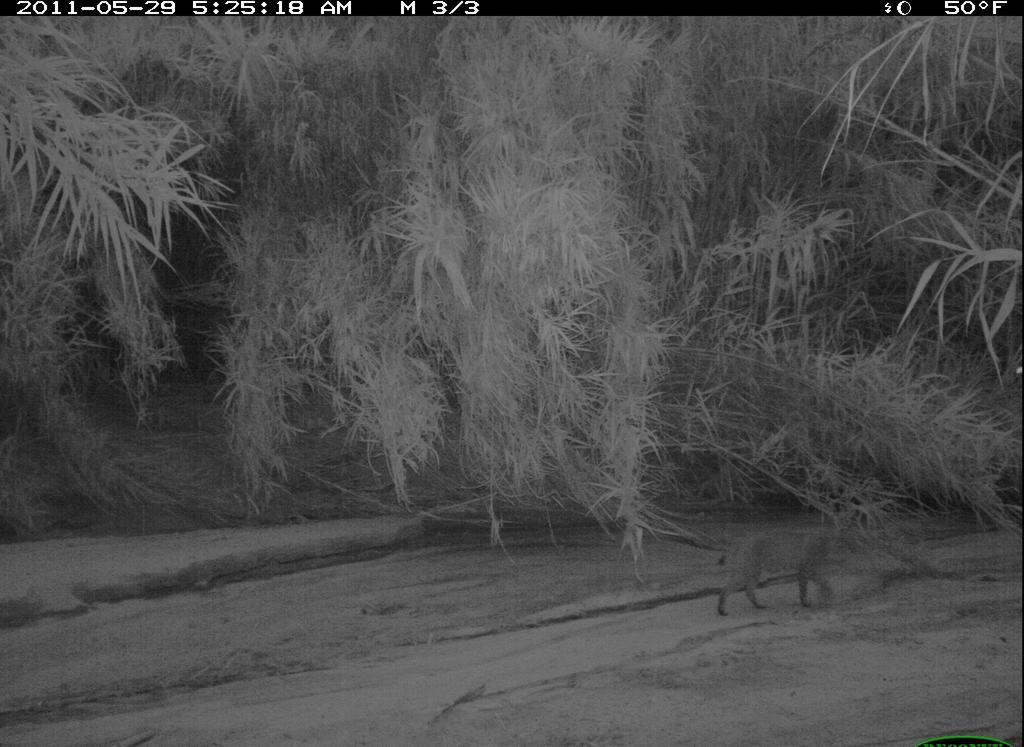bobcat: (701, 498, 873, 628)
